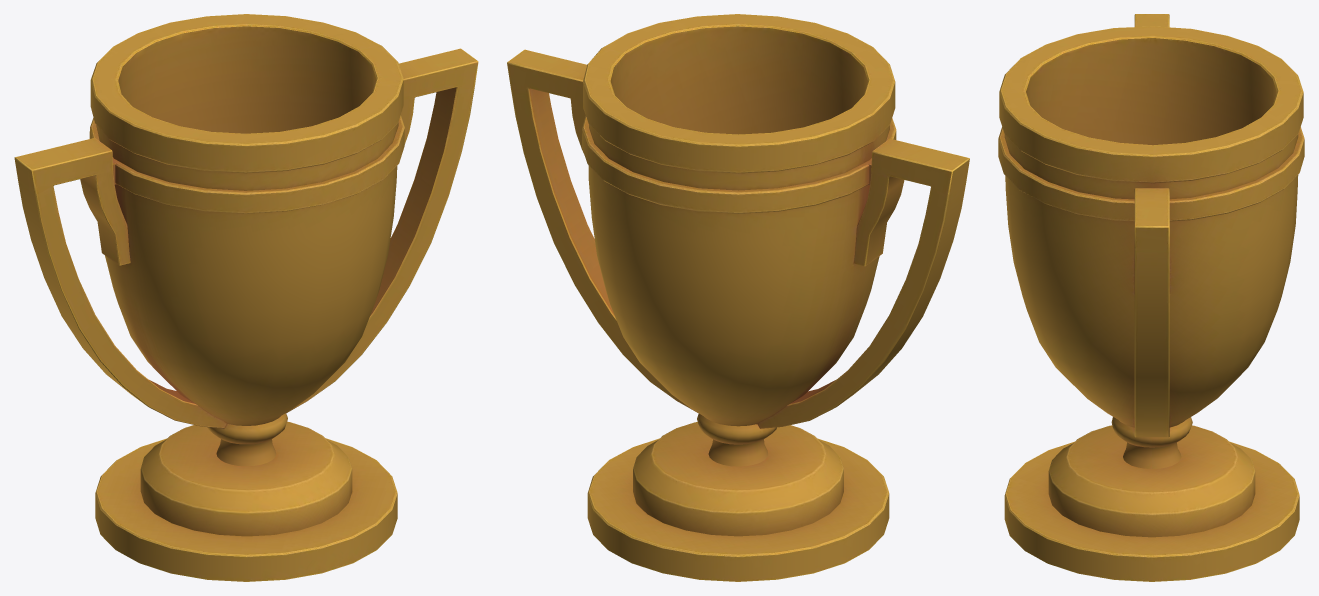
File: trophy_clash_royale-transformed.glb
The picture shows the model from 3 angles, left to right: view 1: azimuth 30°, elevation 25°; view 2: azimuth 150°, elevation 25°; view 3: azimuth 270°, elevation 25°; orthographic projection. The views are drawn at different scales.
Parts seen in each view (by area): view 1: Object_2; view 2: Object_2; view 3: Object_2.
Boxes of the visible parts, x1=… form: Object_2: x1=14, y1=14, x2=478, y2=581; Object_2: x1=507, y1=14, x2=969, y2=581; Object_2: x1=998, y1=14, x2=1304, y2=581.
Size of the model in its own units: 3.29 by 3.1 by 2.
1 material, 1 textured.
